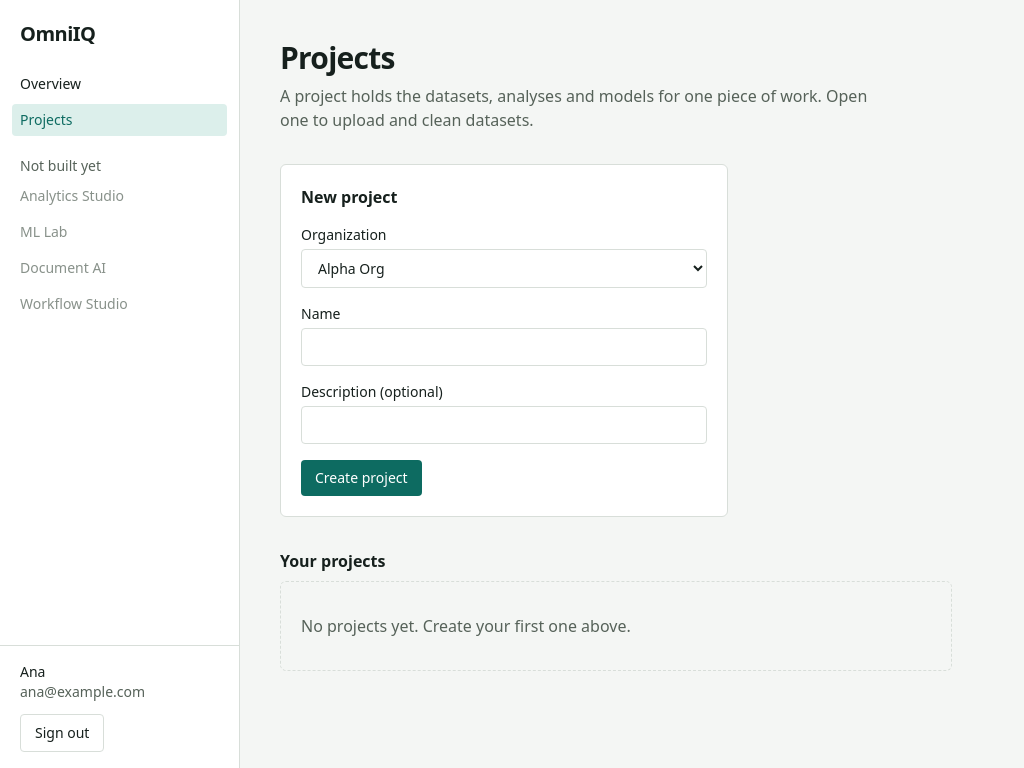
Scenario: ProjectsPage › shows a field error for a duplicate project name
In the field labelled "Name": (504, 347) [301,328,707,366], type "Dup"
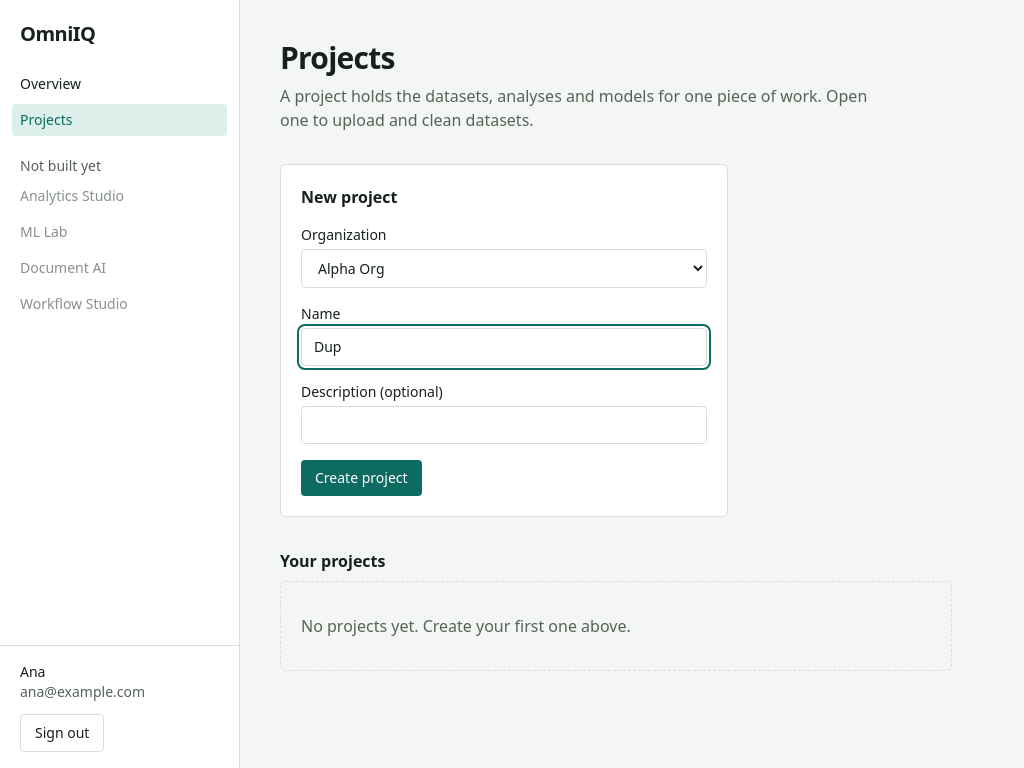
Click the button "Create project": (361, 478) [301,460,422,496]
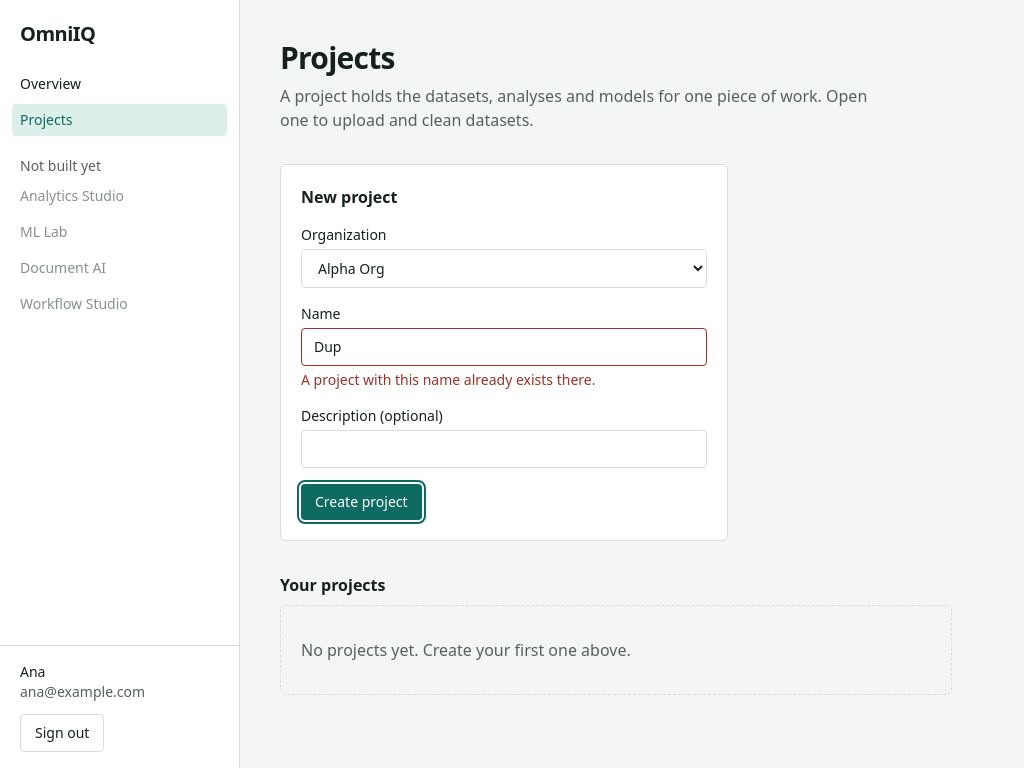
Expected: the text "A project with this name already exists there." is shown, [301,370,596,389]
